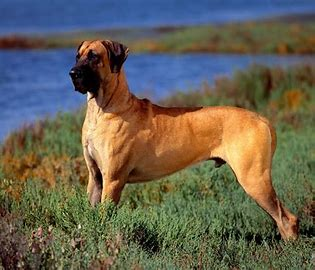dog: (41, 39, 302, 245)
